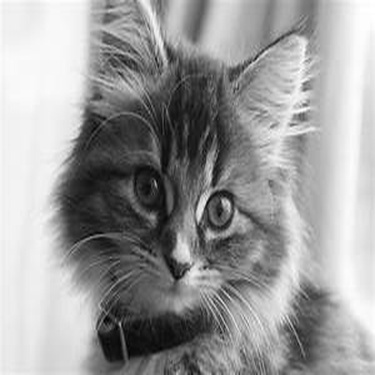cat: (55, 7, 369, 373)
